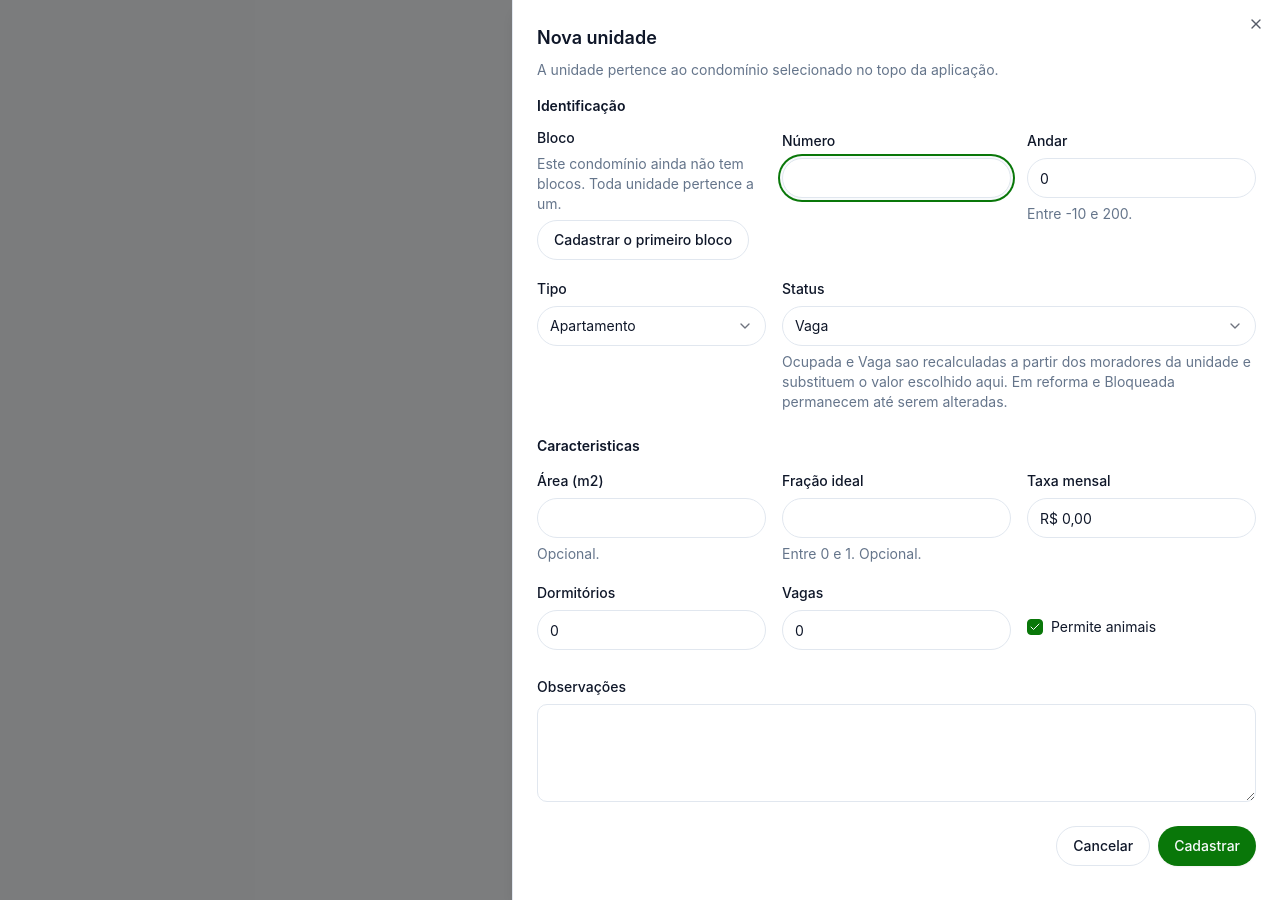
Test: Criação de bloco dentro do cadastro de unidade › IT-196: cancelar a criação devolve o formulário intacto e sem bloco escolhido
Type "101" into the field labelled "Número" at {"x": 896, "y": 178}, box [782,158,1011,198]
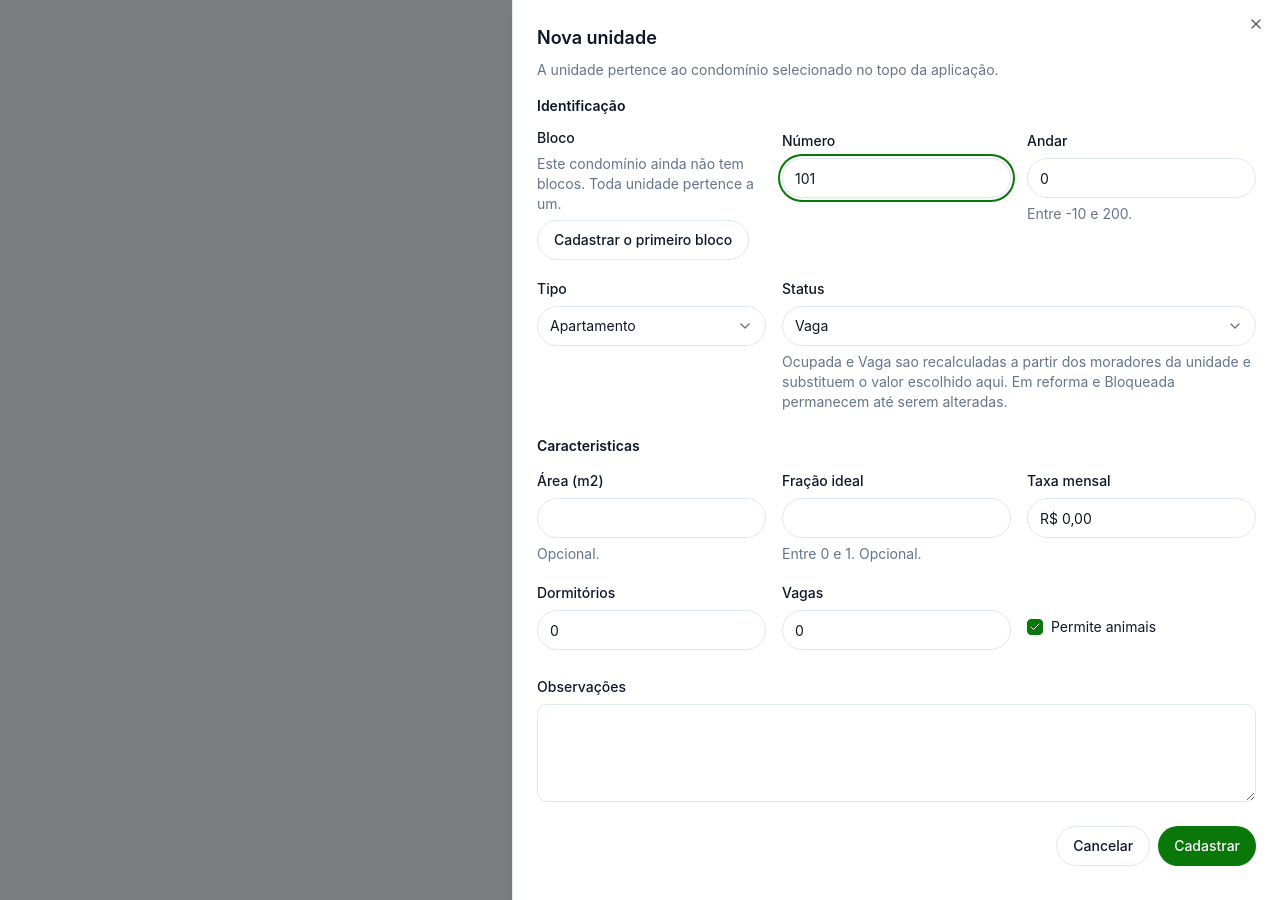
Click the button "Cadastrar o primeiro bloco" at {"x": 643, "y": 240}, box [537,220,749,260]
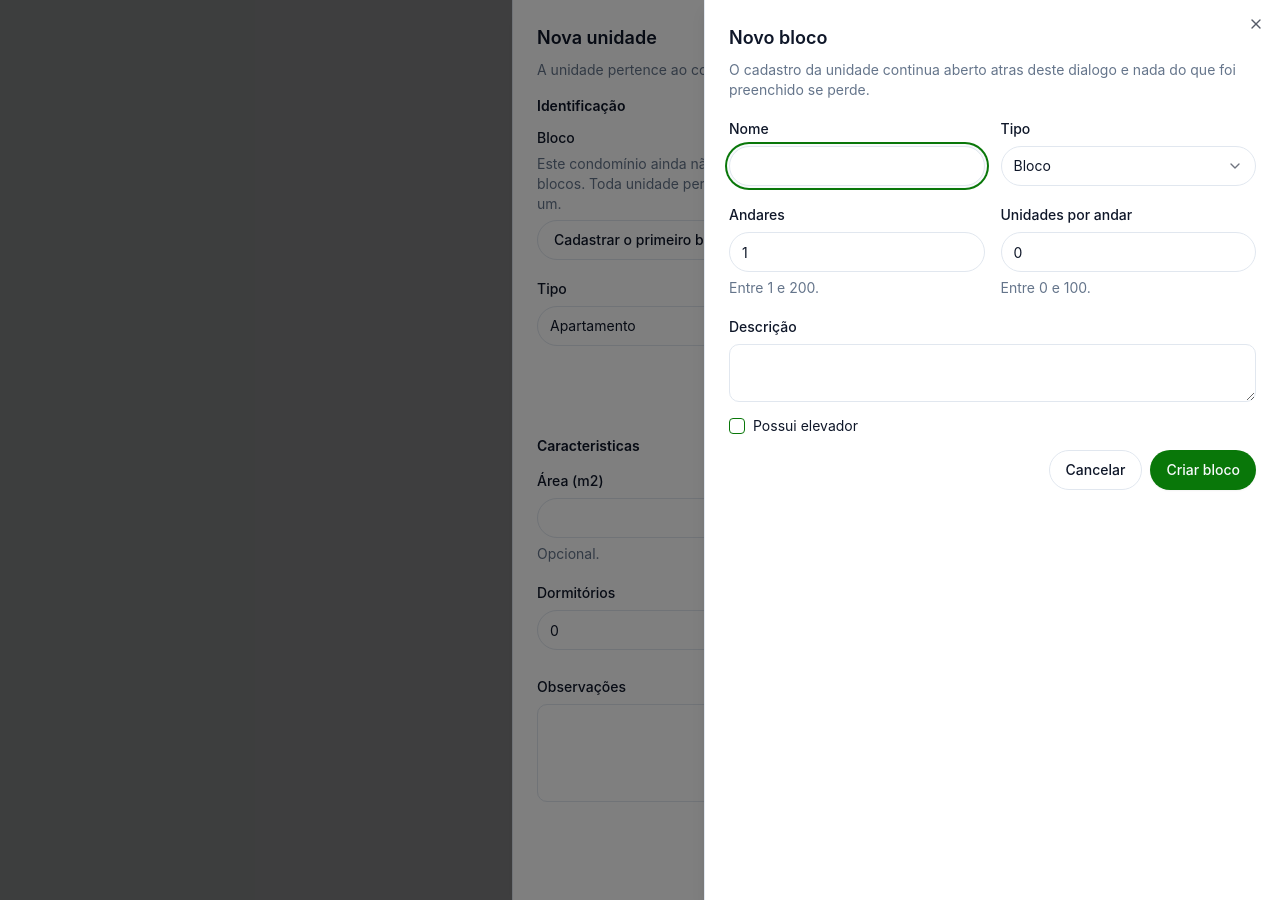
Result: the field labelled "Nome" is shown at [729,146,984,186]
Click the button "Cancelar" at {"x": 1096, "y": 470}, box [1049,450,1142,490]
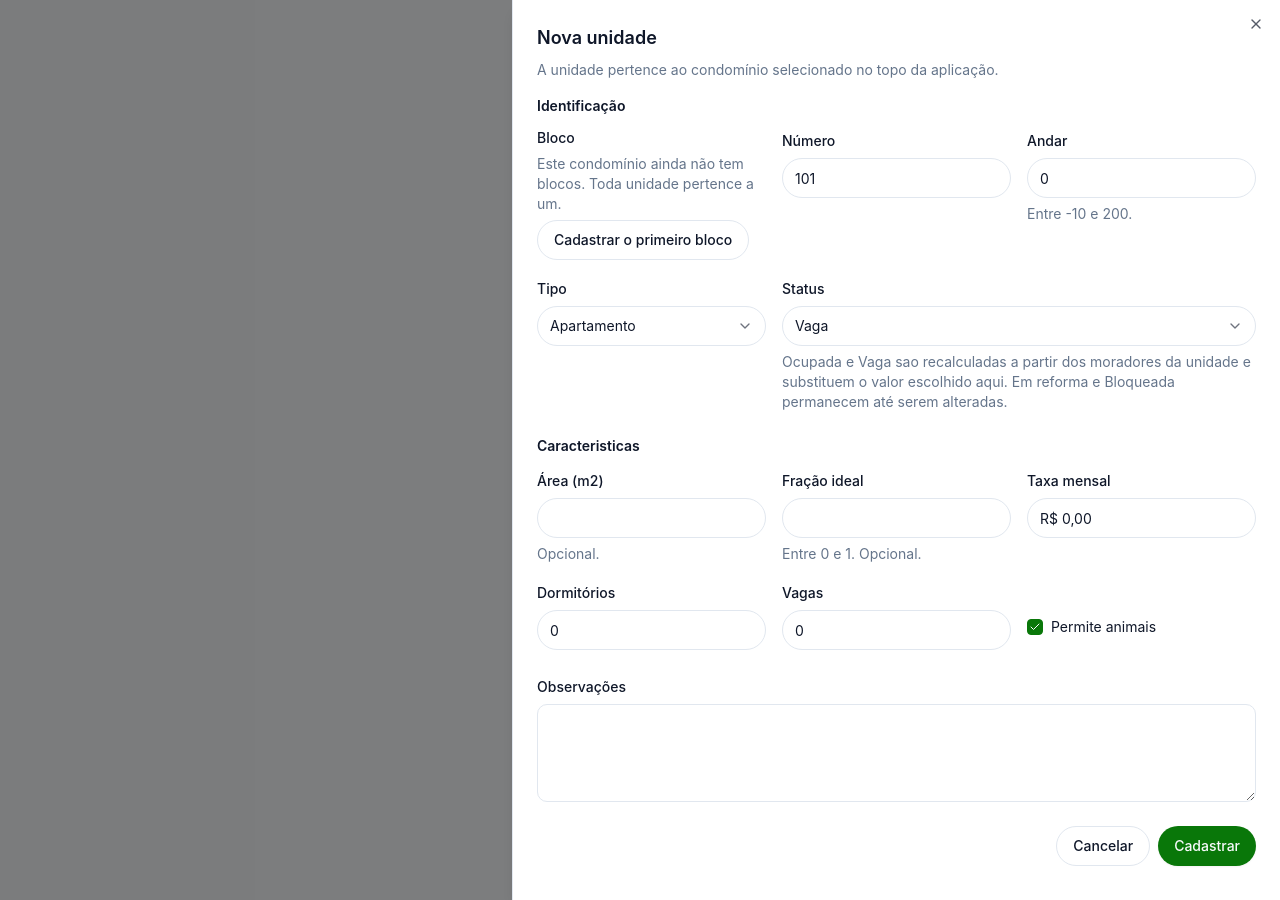
Expected: the button "Cadastrar o primeiro bloco" is shown, [537,220,749,260]
Result: the label labelled "Nome" is gone
